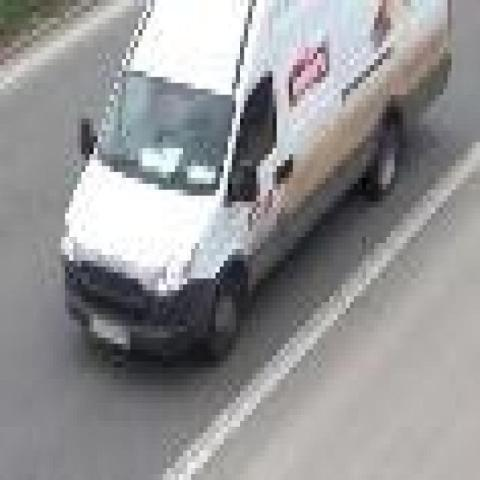van: (63, 0, 450, 368)
